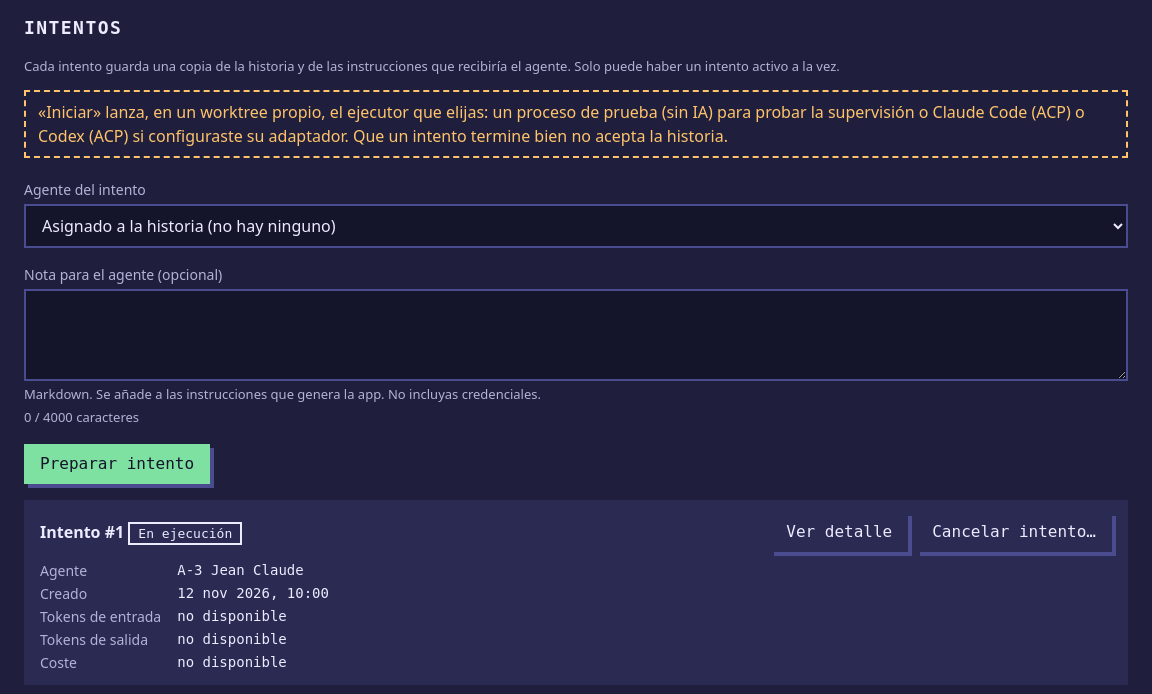
Test: Estados del intento › cancelar un intento en marcha solo lo solicita y se muestra hasta que termina
This screenshot has width=1152, height=694.
Click the button named "Ver detalle del intento #1": point(839, 532) [770, 512, 908, 552]
(page scrolled)
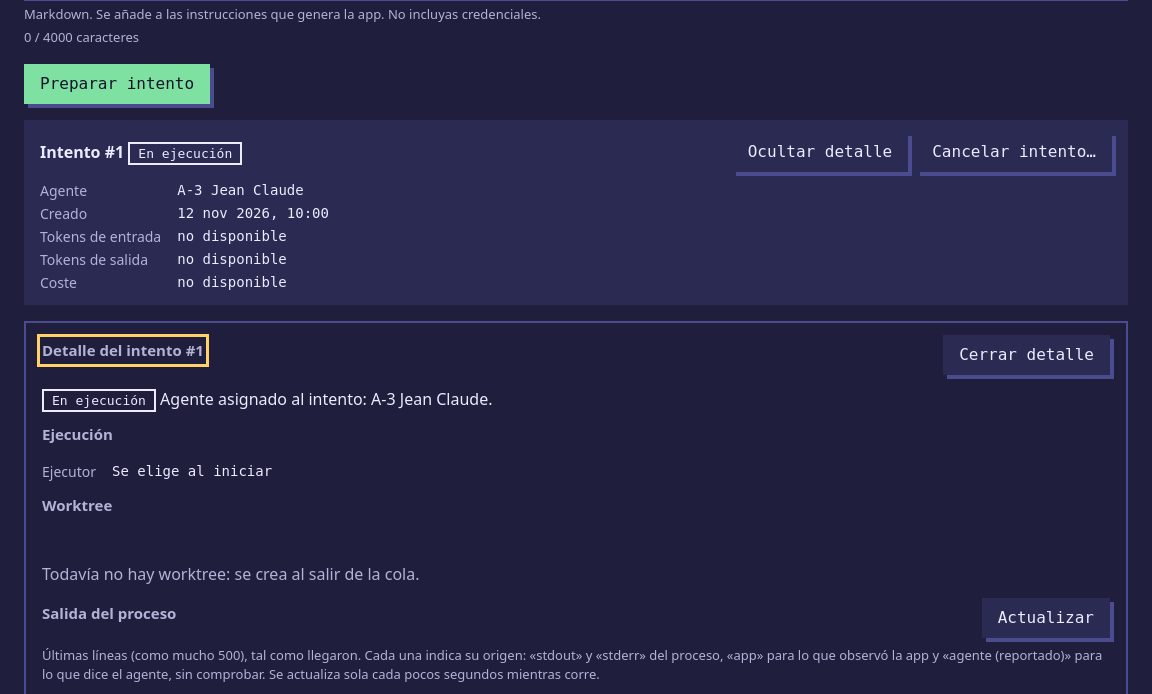
Click the button "Cancelar intento…": point(1014, 152) [916, 132, 1112, 172]
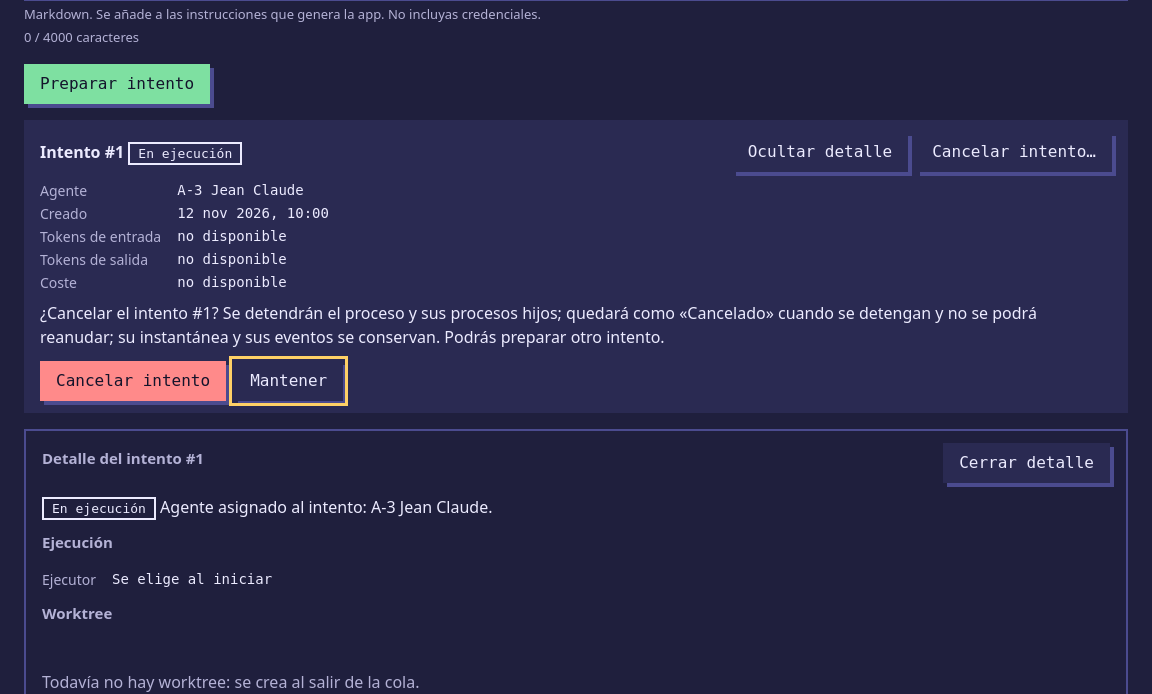
Now the dialog shows "Se detendrán el proceso y sus procesos hijos", box [40, 302, 1037, 348]
Click the button "Cancelar intento": point(133, 380) [40, 360, 226, 400]
(page scrolled)
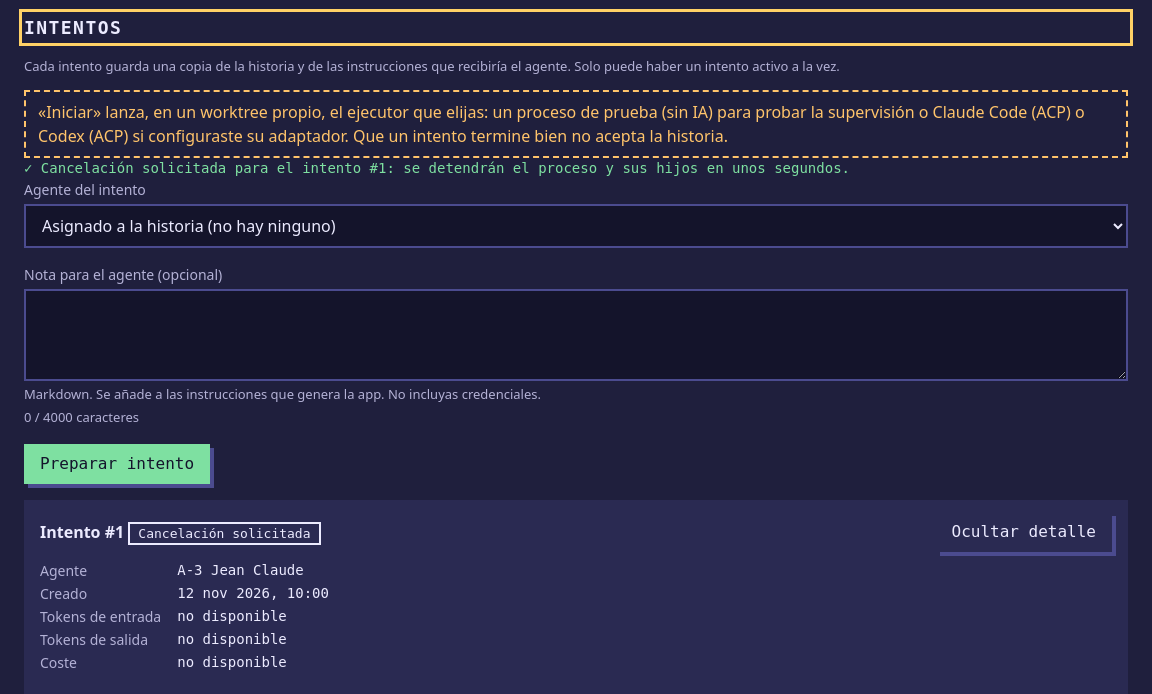
Now the text "Cancelación solicitada para el intento #1: se detendrán el proceso y sus hijos en unos segundos." is shown, box [24, 160, 850, 176]
Now the button "Cancelar intento…" is gone
Now the text "Cancelación solicitada" is shown, box [128, 522, 320, 544]
